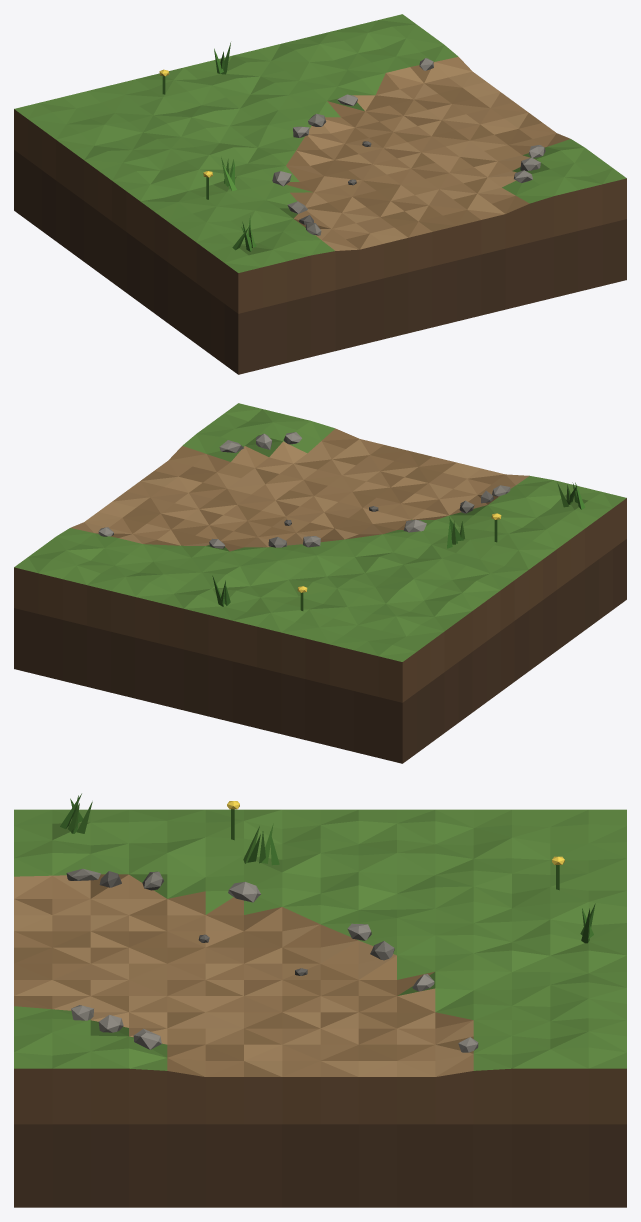
The model's file is road_corner.glb.
3 renders of one model, top to bottom at view 1: azimuth 30°, elevation 25°; view 2: azimuth 150°, elevation 25°; view 3: azimuth 270°, elevation 25°, orthographic. The views are drawn at different scales.
Parts seen in each view (by area): view 1: RoadCorner; view 2: RoadCorner; view 3: RoadCorner.
Part boxes in pixels (box(x1,y1,x2,y2)): RoadCorner: box(14, 14, 626, 374); RoadCorner: box(14, 403, 626, 763); RoadCorner: box(14, 793, 626, 1207).
Size of the model in its own units: 2 by 0.6519 by 2.
